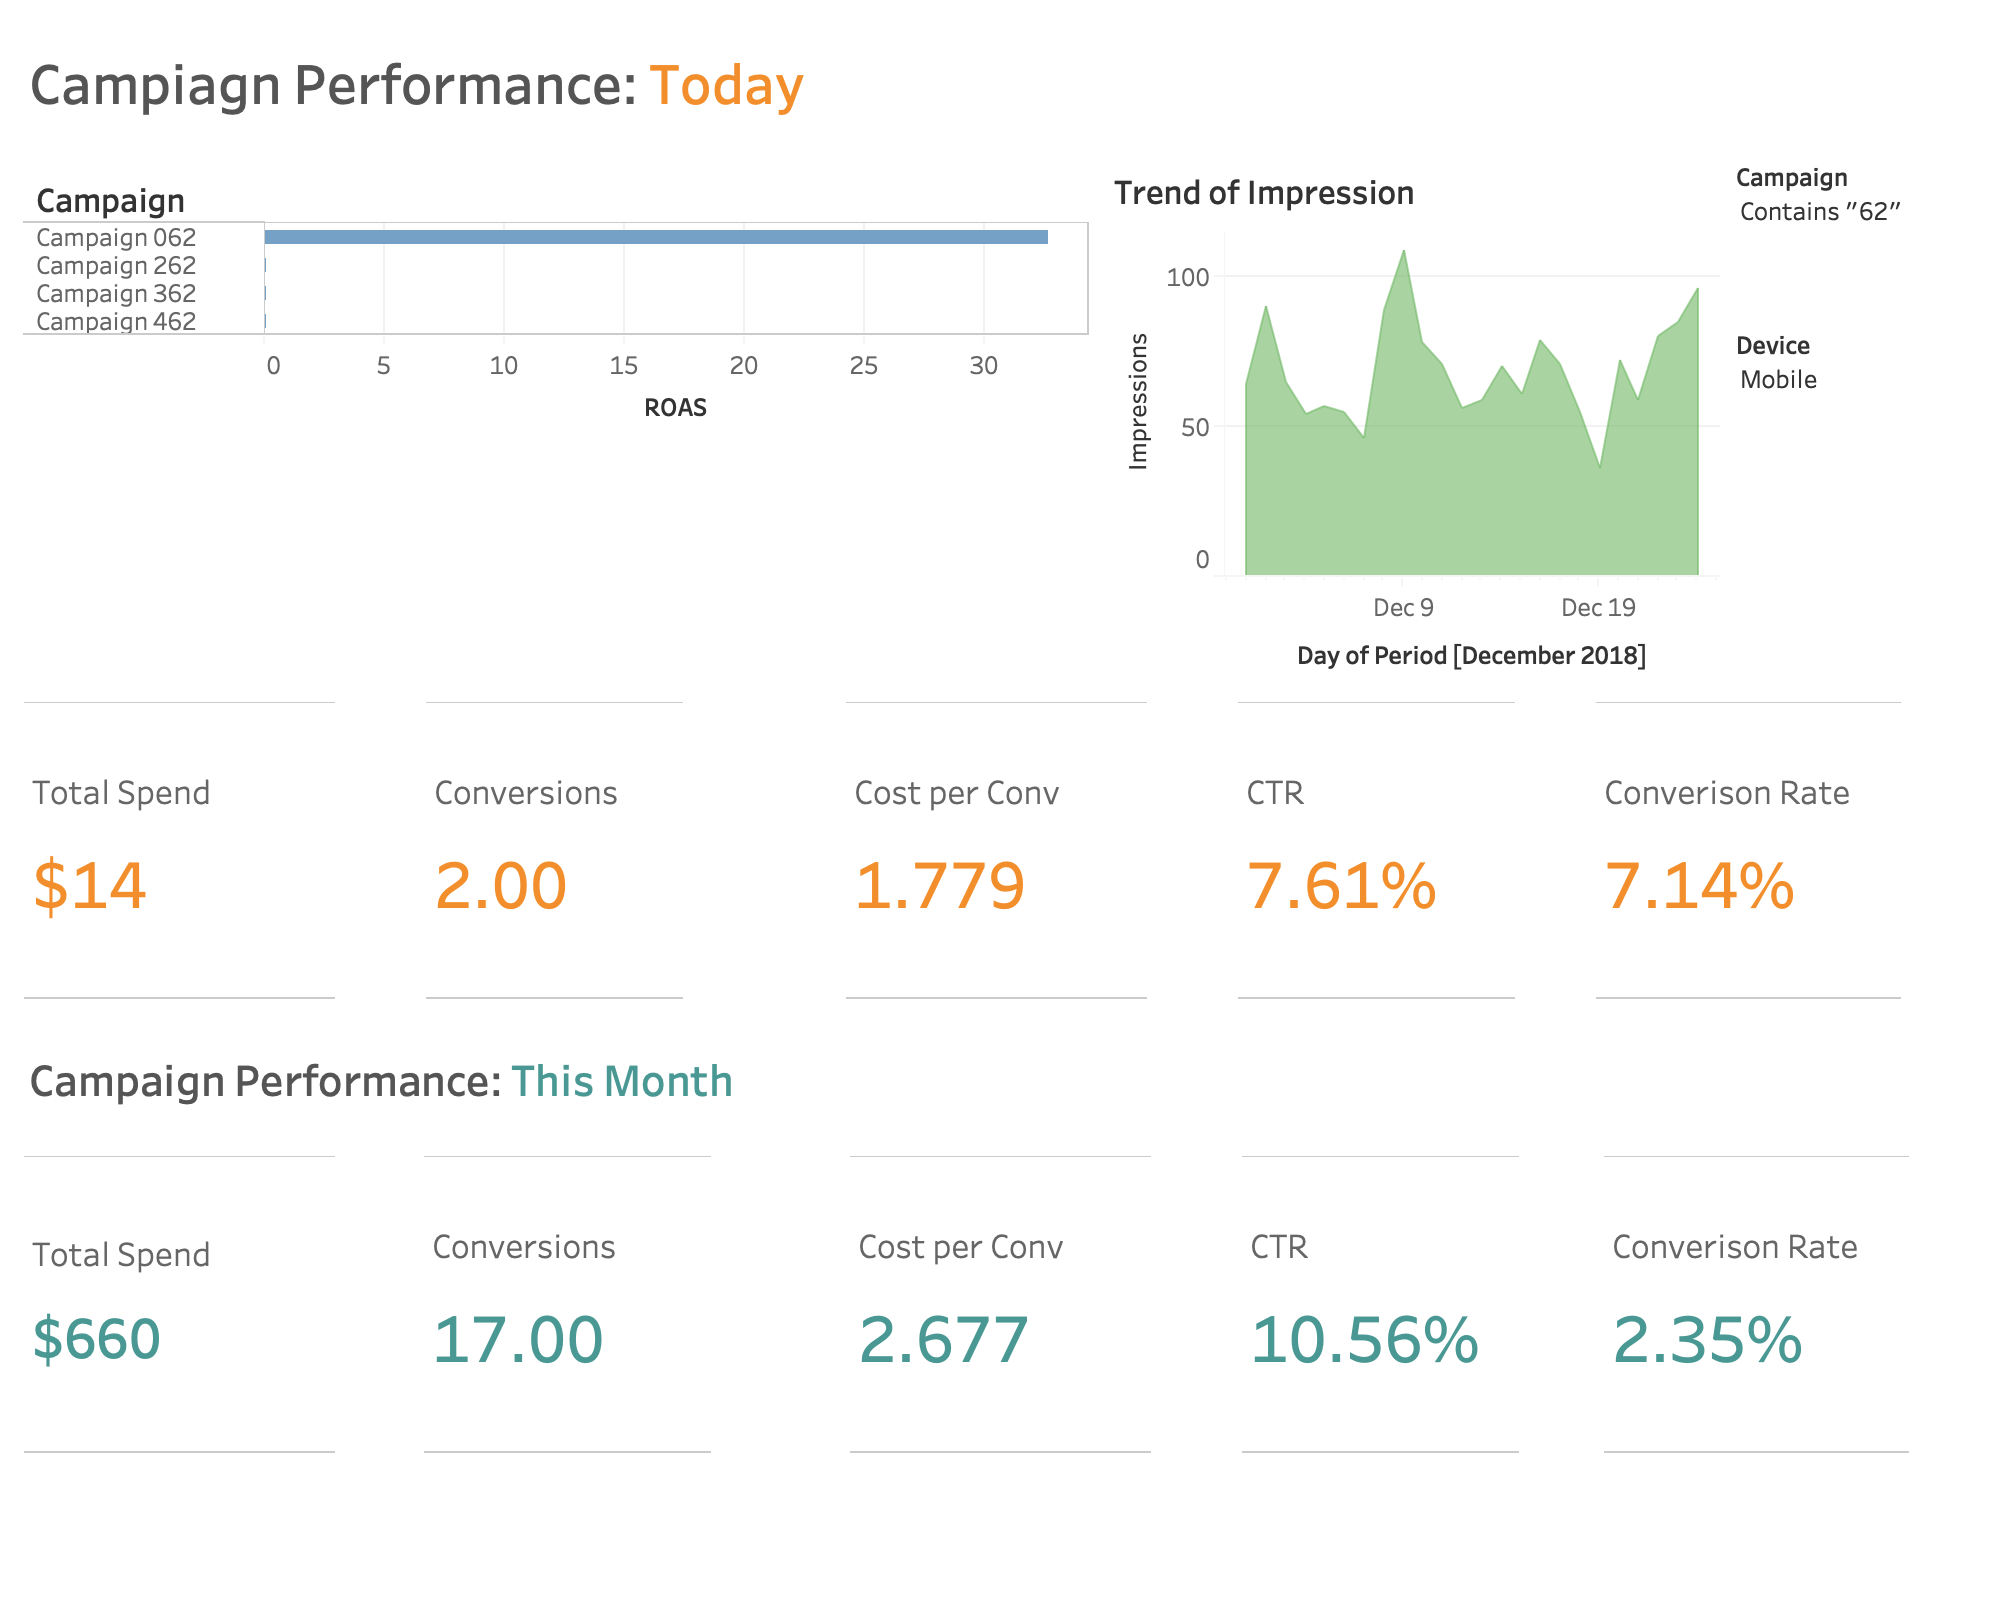

What the dashboard file says about the page in this screenshot:
{"tool":"tableau","page":{"name":"Dashboard_Campaign_Performance","canvas":[1000,800],"ordinal":0},"visuals":[{"type":"text","box":[8,8,984,67]},{"type":"worksheet","title":"Campaign_ROAS_Today","mark":"Bar","rows":["Day","Campaign"],"cols":["ROI"],"box":[8,75,541,272]},{"type":"worksheet","title":"Trend of Impression","mark":"Area","rows":["Impressions"],"cols":["Day"],"box":[549,75,315,272]},{"type":"filter","title":"Spending_Today","param":"[federated.1x7wusw17rf5a6163vt2t01ocihh].[none:Campaign:nk]","box":[864,75,128,84]},{"type":"filter","title":"CPC_Today","param":"[federated.1x7wusw17rf5a6163vt2t01ocihh].[none:Device:nk]","box":[864,159,128,188]},{"type":"worksheet","title":"Spending_Today","mark":"Text","cols":["Day"],"box":[8,347,200.6,158]},{"type":"worksheet","title":"Conversions_Today","mark":"Text","cols":["Day"],"box":[208.6,347,210.2,158]},{"type":"worksheet","title":"CPC_Today","mark":"Text","cols":["Day"],"box":[418.8,347,195.8,158]},{"type":"worksheet","title":"CTR_Today","mark":"Text","cols":["Day"],"box":[614.6,347,179.1,158]},{"type":"worksheet","title":"CR_Today ","mark":"Text","cols":["Day"],"box":[793.8,347,198.2,158]},{"type":"text","box":[8,505,984,69]},{"type":"worksheet","title":"Spending_12","mark":"Text","cols":["Day"],"box":[8,574,200,218]},{"type":"worksheet","title":"Conversions_12","mark":"Text","cols":["Day"],"box":[208,574,213,218]},{"type":"worksheet","title":"CPC_12","mark":"Text","cols":["Day"],"box":[421,574,196,218]},{"type":"worksheet","title":"CTR_12","mark":"Text","cols":["Day"],"box":[617,574,181,218]},{"type":"worksheet","title":"CR_12","mark":"Text","cols":["Day"],"box":[798,574,194,218]}]}

Visuals, with their boxes in screenshot pixels (x1, y1, x2, y2), scaled from the page's 1000x800 canvas onto the 2000x1600 screenshot:
text: 16 16 1984 150
"Campaign_ROAS_Today" worksheet (Bar marks): 16 150 1098 694
"Trend of Impression" worksheet (Area marks): 1098 150 1728 694
"Spending_Today" filter: 1728 150 1984 318
"CPC_Today" filter: 1728 318 1984 694
"Spending_Today" worksheet (Text marks): 16 694 417 1010
"Conversions_Today" worksheet (Text marks): 417 694 838 1010
"CPC_Today" worksheet (Text marks): 838 694 1229 1010
"CTR_Today" worksheet (Text marks): 1229 694 1587 1010
"CR_Today " worksheet (Text marks): 1588 694 1984 1010
text: 16 1010 1984 1148
"Spending_12" worksheet (Text marks): 16 1148 416 1584
"Conversions_12" worksheet (Text marks): 416 1148 842 1584
"CPC_12" worksheet (Text marks): 842 1148 1234 1584
"CTR_12" worksheet (Text marks): 1234 1148 1596 1584
"CR_12" worksheet (Text marks): 1596 1148 1984 1584
